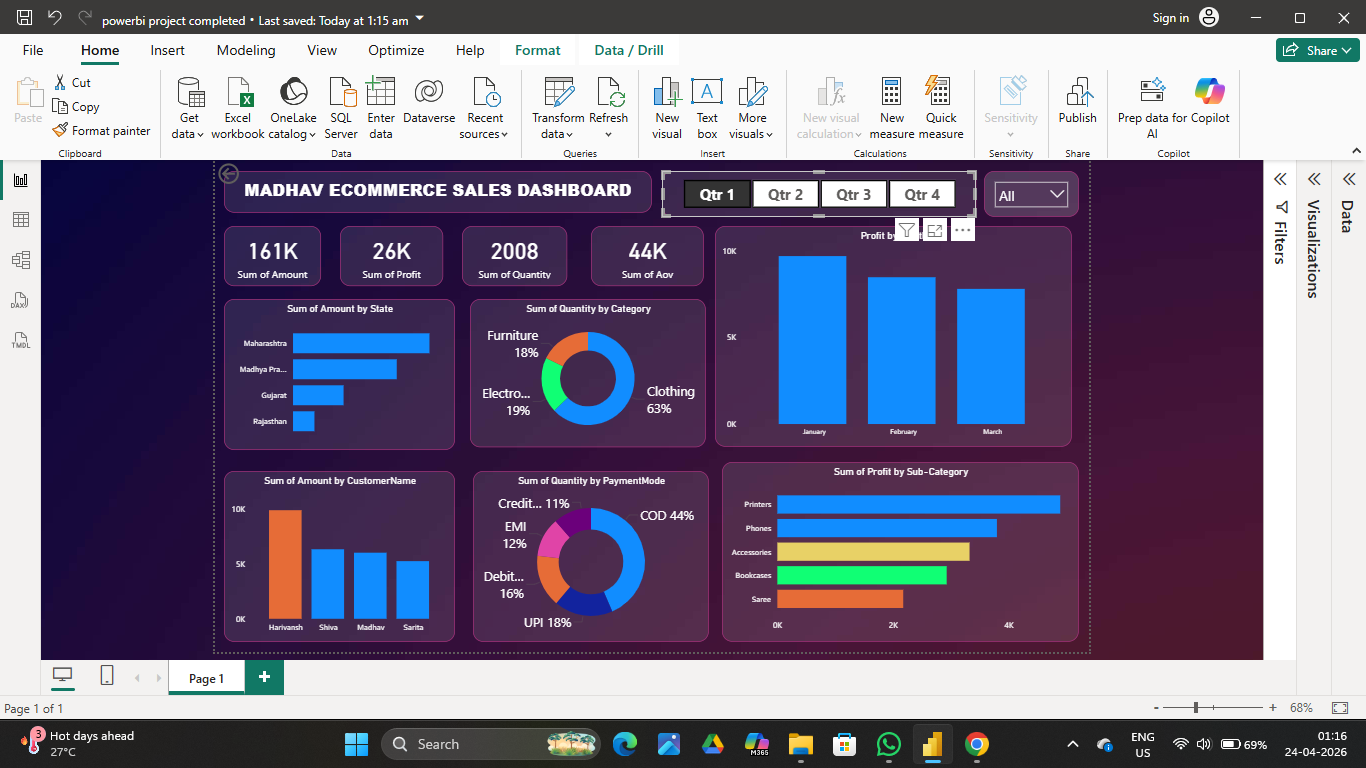

The dashboard page shown, as its layout file describes it:
{"tool":"powerbi","page":{"name":"Page 1","canvas":[1280,720],"ordinal":0},"visuals":[{"type":"textbox","box":[13.2,16.1,626.3,61.5],"z":0},{"type":"columnChart","title":"Profit by Month","fields":{"Category":["Orders.Order Date.Variation.Date Hierarchy.Month"],"Y":["Sum(Details.Profit)"]},"box":[732,97,522.1,322.8],"z":1000},{"type":"barChart","fields":{"Category":["Details.Sub-Category"],"Y":["Sum(Details.Profit)"]},"box":[742,442,522.4,263.4],"z":2000},{"type":"donutChart","fields":{"Category":["Details.Category"],"Y":["Sum(Details.Quantity)"]},"box":[373.2,203.4,345.4,216.6],"z":3000},{"type":"donutChart","fields":{"Category":["Details.PaymentMode","Details.Category"],"Y":["Sum(Details.Quantity)"]},"box":[377.6,455.1,345.4,250.2],"z":4000},{"type":"card","fields":{"Values":["Sum(Details.Amount)"]},"box":[13.2,96.6,142,87.8],"z":5000},{"type":"card","fields":{"Values":["Sum(Details.Quantity)"]},"box":[361.5,96.6,153.7,87.8],"z":6000},{"type":"card","fields":{"Values":["Sum(Details.Profit)"]},"box":[182.9,96.6,150.7,87.8],"z":7000},{"type":"card","fields":{"Values":["Sum(Details.Aov)"]},"box":[550.2,96.6,165.4,87.8],"z":8000},{"type":"actionButton","box":[0,0,100,40],"z":9000},{"type":"barChart","fields":{"Category":["Orders.State"],"Y":["Sum(Details.Amount)"]},"box":[13.2,203.4,338,221],"z":10000},{"type":"columnChart","fields":{"Category":["Orders.CustomerName"],"Y":["Sum(Details.Amount)"]},"box":[13.2,455.1,338,250.2],"z":11000},{"type":"slicer","fields":{"Values":["Orders.Order Date.Variation.Date Hierarchy.Quarter"]},"box":[654.1,16.1,459.5,67.3],"z":12000},{"type":"slicer","fields":{"Values":["Orders.State"]},"box":[1125.4,16.1,139,67.3],"z":13000}]}

Visuals, with their boxes on the page's 1280x720 design canvas (x1, y1, x2, y2). These are canvas units, not pixel positions in the 1366x768 screenshot, which may show the page scaled, cropped or inside an application window:
textbox: {"left": 13, "top": 16, "right": 640, "bottom": 78}
"Profit by Month" columnChart: {"left": 732, "top": 97, "right": 1254, "bottom": 420}
barChart - Details.Sub-Category x Sum(Details.Profit): {"left": 742, "top": 442, "right": 1264, "bottom": 705}
donutChart - Details.Category x Sum(Details.Quantity): {"left": 373, "top": 203, "right": 719, "bottom": 420}
donutChart - Details.PaymentMode x Details.Category: {"left": 378, "top": 455, "right": 723, "bottom": 705}
card - Sum(Details.Amount): {"left": 13, "top": 97, "right": 155, "bottom": 184}
card - Sum(Details.Quantity): {"left": 362, "top": 97, "right": 515, "bottom": 184}
card - Sum(Details.Profit): {"left": 183, "top": 97, "right": 334, "bottom": 184}
card - Sum(Details.Aov): {"left": 550, "top": 97, "right": 716, "bottom": 184}
actionButton: {"left": 0, "top": 0, "right": 100, "bottom": 40}
barChart - Orders.State x Sum(Details.Amount): {"left": 13, "top": 203, "right": 351, "bottom": 424}
columnChart - Orders.CustomerName x Sum(Details.Amount): {"left": 13, "top": 455, "right": 351, "bottom": 705}
slicer - Orders.Order Date.Variation.Date Hierarchy.Quarter: {"left": 654, "top": 16, "right": 1114, "bottom": 83}
slicer - Orders.State: {"left": 1125, "top": 16, "right": 1264, "bottom": 83}
